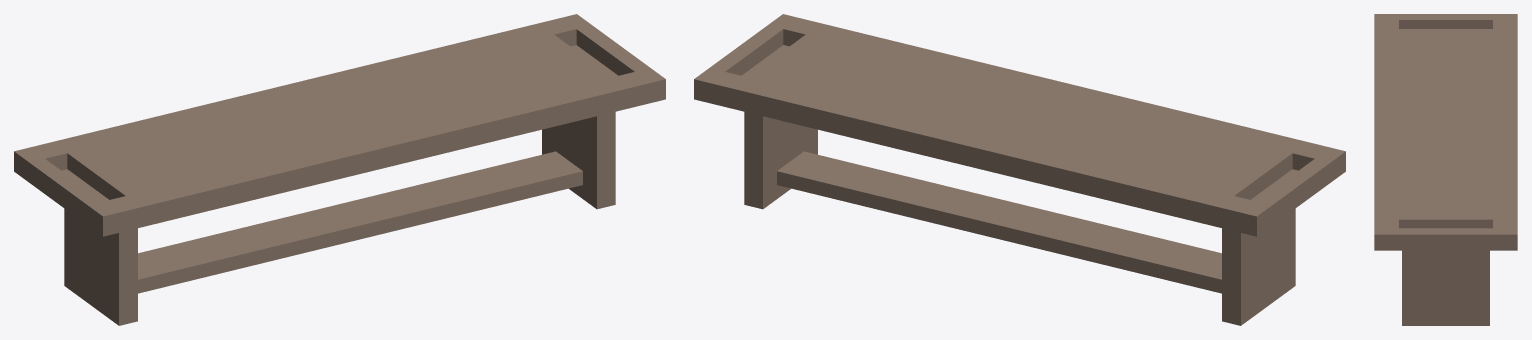
Rendered from Bard_Chair.fbx.
3 renders of one model, left to right at view 1: azimuth 30°, elevation 25°; view 2: azimuth 150°, elevation 25°; view 3: azimuth 270°, elevation 25°, orthographic. The views are drawn at different scales.
Parts seen in each view (by area): view 1: Bard_Chair_Geo; view 2: Bard_Chair_Geo; view 3: Bard_Chair_Geo.
Boxes of the visible parts, box(x1,y1,x2,y2) form: Bard_Chair_Geo: box(14, 14, 665, 325); Bard_Chair_Geo: box(694, 14, 1345, 325); Bard_Chair_Geo: box(1374, 14, 1517, 325).
Bounding box in the file's own units: 50.16 × 11.08 × 13.75.
